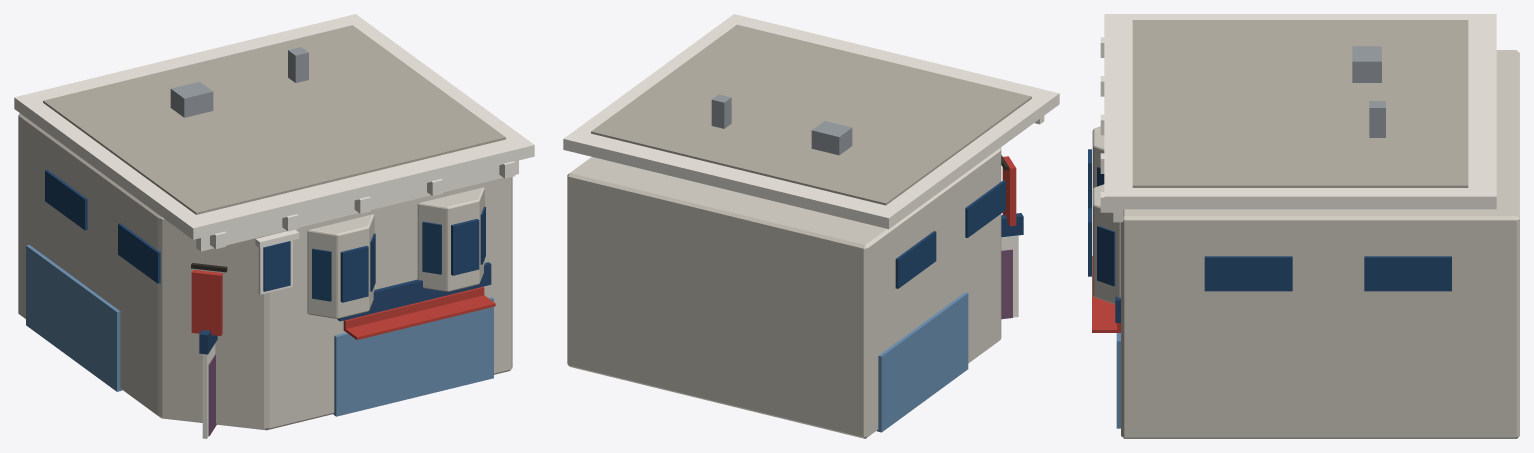
File: liquor_corner.glb
The picture shows the model from 3 angles, left to right: view 1: azimuth 30°, elevation 25°; view 2: azimuth 150°, elevation 25°; view 3: azimuth 270°, elevation 25°; orthographic projection. The views are drawn at different scales.
Parts seen in each view (by area): view 1: lwalls, roofslab, corn, shopf, shops, bay, bay.001, frieze, awn, blade, fascia, bw (+11 smaller); view 2: lwalls, roofslab, corn, shops, sb.002, sb, hvac, cdoor, blade, cfr, pipe; view 3: lwalls, roofslab, corn, sb.001, sb.003, bay.001, hvac, bwa.003, awn, pipe, bay, shopf.
Boxes of the visible parts, x1,y1,x2,y2 form: lwalls: (18, 113, 512, 430); roofslab: (43, 25, 505, 214); corn: (14, 14, 534, 239); shopf: (333, 297, 493, 416); shops: (26, 244, 122, 391); bay: (307, 214, 374, 318); bay.001: (417, 187, 484, 291); frieze: (196, 160, 518, 251); awn: (343, 295, 495, 339); blade: (191, 269, 222, 335); fascia: (337, 262, 491, 321); bw: (340, 245, 368, 302); lwalls: (567, 147, 1001, 438); roofslab: (591, 24, 1031, 205); corn: (563, 14, 1059, 229); shops: (876, 292, 968, 432); sb.002: (895, 231, 936, 288); sb: (965, 180, 1005, 237); hvac: (811, 121, 852, 155); cdoor: (1001, 249, 1012, 319); blade: (1002, 156, 1016, 226); cfr: (1001, 235, 1018, 317); pipe: (711, 94, 731, 128); lwalls: (1121, 50, 1519, 438); roofslab: (1132, 20, 1468, 187); corn: (1104, 14, 1496, 209); sb.001: (1204, 256, 1292, 291); sb.003: (1364, 256, 1451, 291); bay.001: (1092, 184, 1120, 304); hvac: (1352, 46, 1381, 82); bwa.003: (1097, 225, 1115, 286); awn: (1092, 256, 1120, 332); pipe: (1369, 101, 1385, 137); bay: (1092, 126, 1104, 189); shopf: (1116, 333, 1120, 428).
Bounding box in the file's own units: 13 × 9.4 × 12.99.
